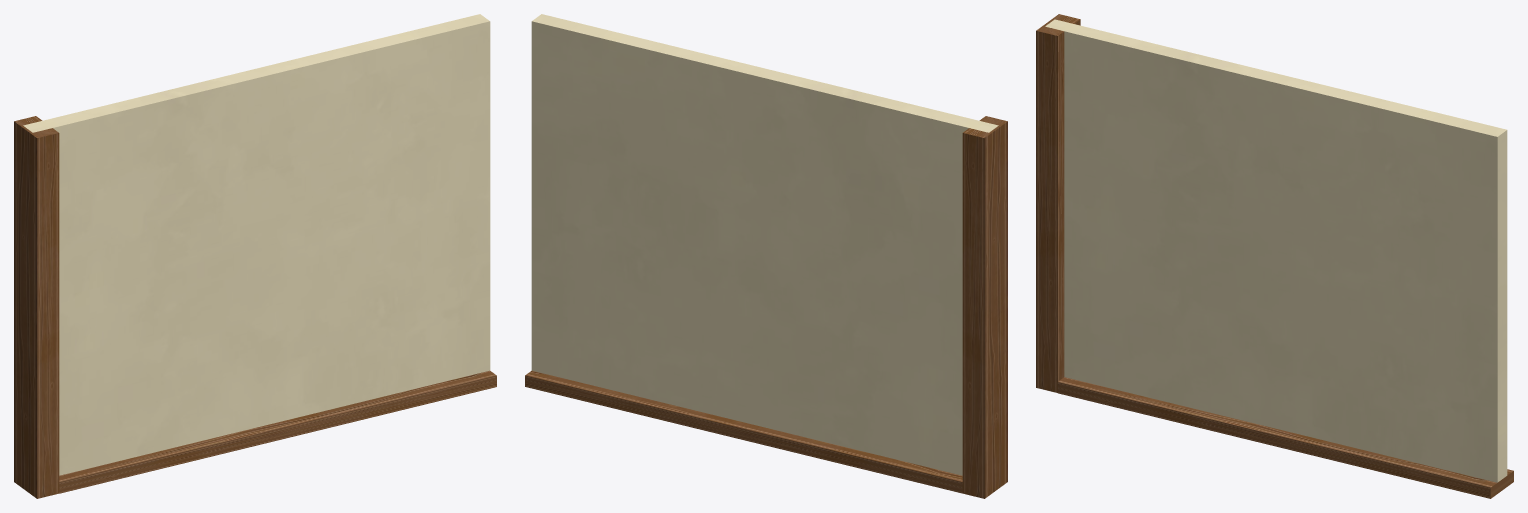
Rendered from SM_Large_Wall_03_wcream.glb.
The picture shows the model from 3 angles, left to right: view 1: azimuth 30°, elevation 25°; view 2: azimuth 150°, elevation 25°; view 3: azimuth 330°, elevation 25°; orthographic projection.
Visible parts, largest first — view 1: SM_Large_Wall_03; view 2: SM_Large_Wall_03; view 3: SM_Large_Wall_03.
Part boxes in pixels (x1,y1,x2,y2): SM_Large_Wall_03: (14, 14, 496, 498); SM_Large_Wall_03: (525, 14, 1007, 498); SM_Large_Wall_03: (1036, 14, 1513, 498).
Size of the model in its own units: 4 by 3 by 0.3524.
Materials: 2 (2 with a texture image).
